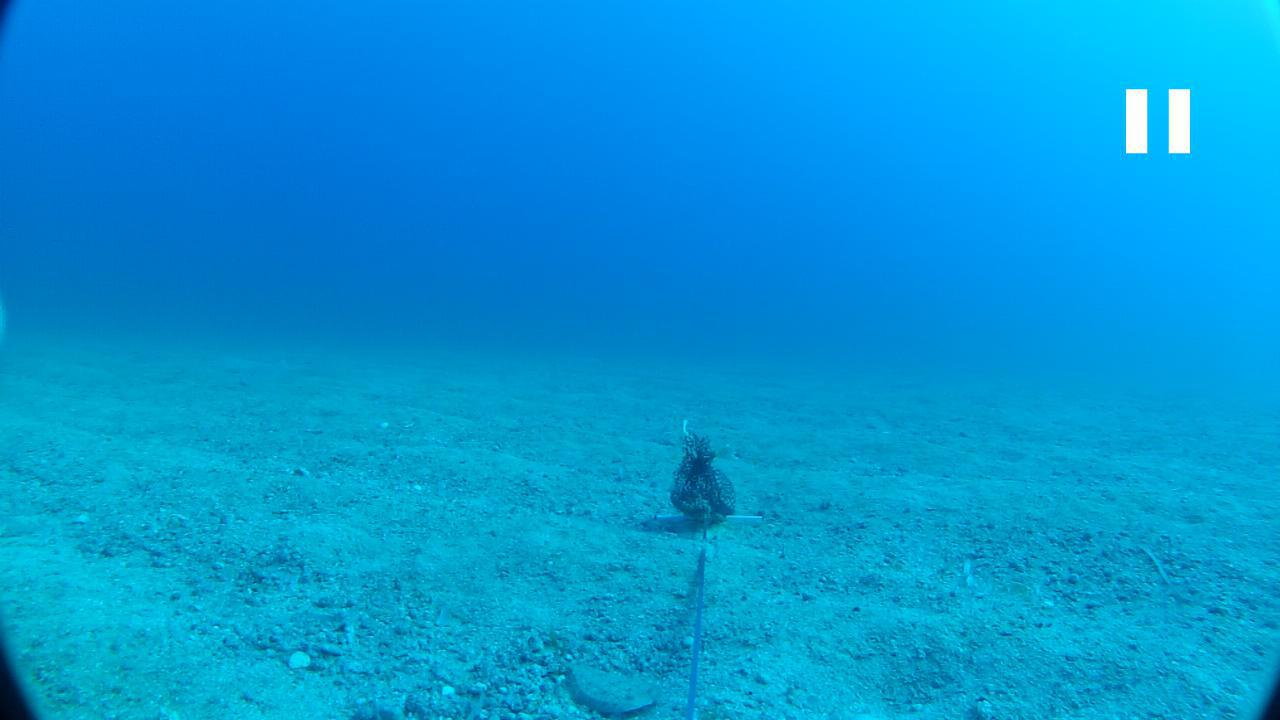bothus: (550, 652, 665, 716)
